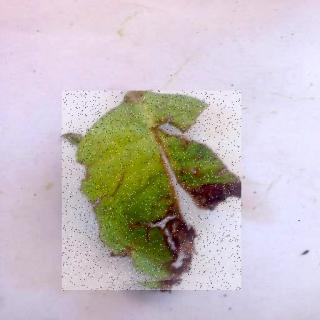Brown Blight: (63, 92, 242, 292)
